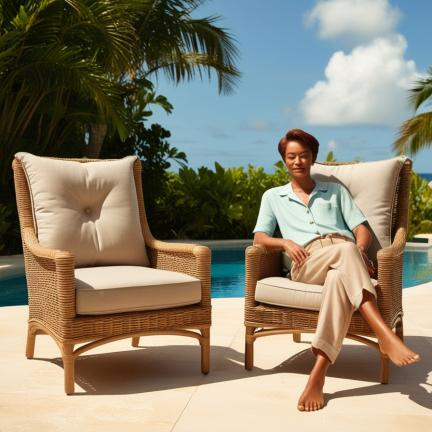empty chair: (13, 153, 211, 393)
guest on chair: (245, 129, 419, 411)
